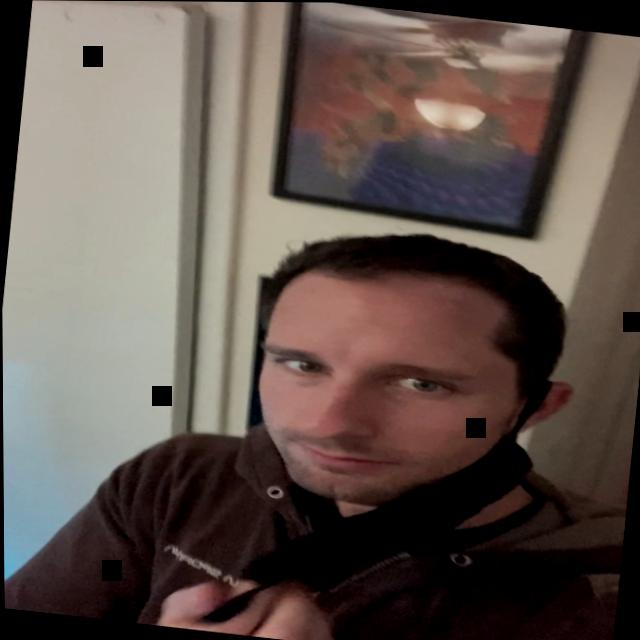NO-Mask: (226, 225, 572, 550)
